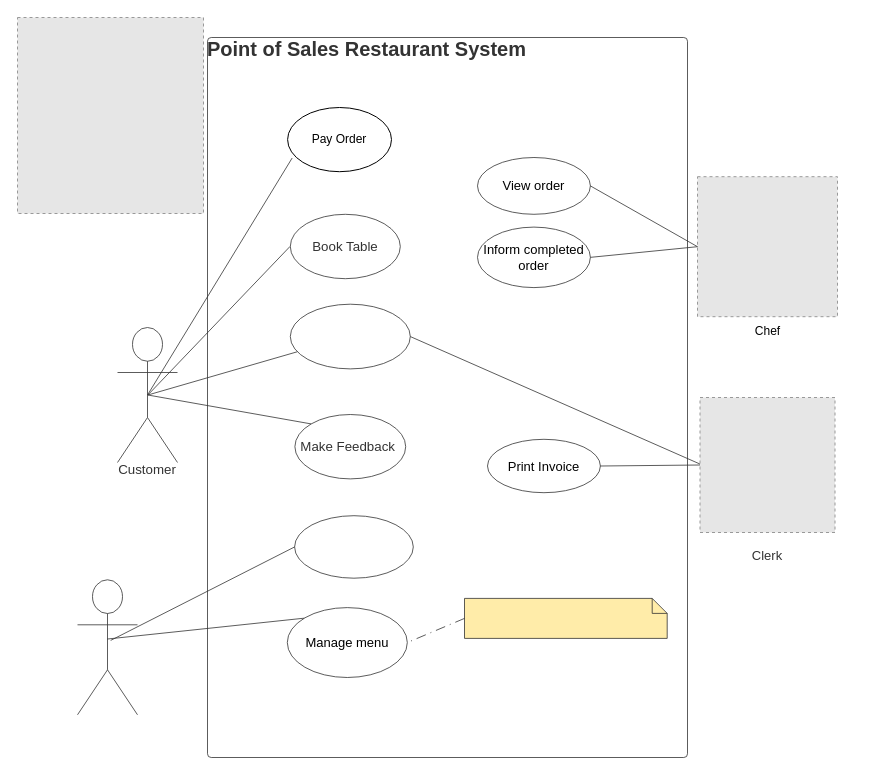
Some shapes in this 875 by 775 pixel diagram are drawn without their labels. Grey dashed boxes stand in for pictures. Each missing label, with the centre of its shape:
"Create/ Read/ Update/ Change Price" belongs at pixel 565 618.
"Manager" belongs at pixel 107 647.
"Place Order" belongs at pixel 349 336.
"View feedback" belongs at pixel 353 546.
